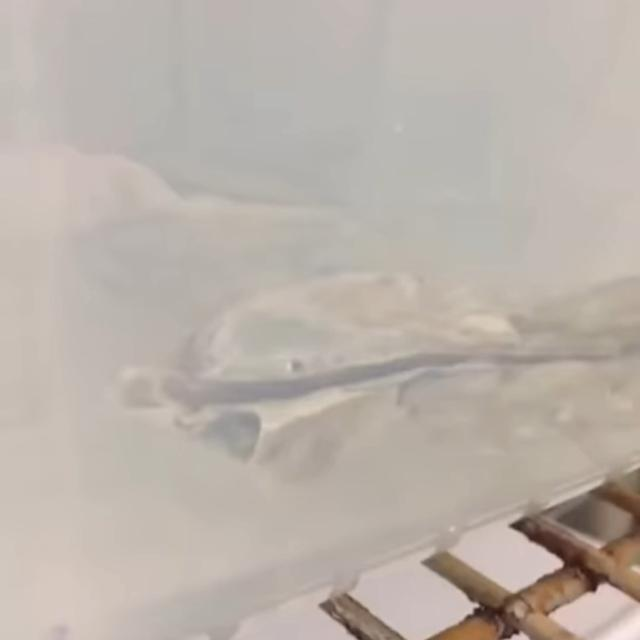Oyster-Indeterminate: (38, 143, 358, 260)
Oyster-Open: (129, 271, 632, 478)
